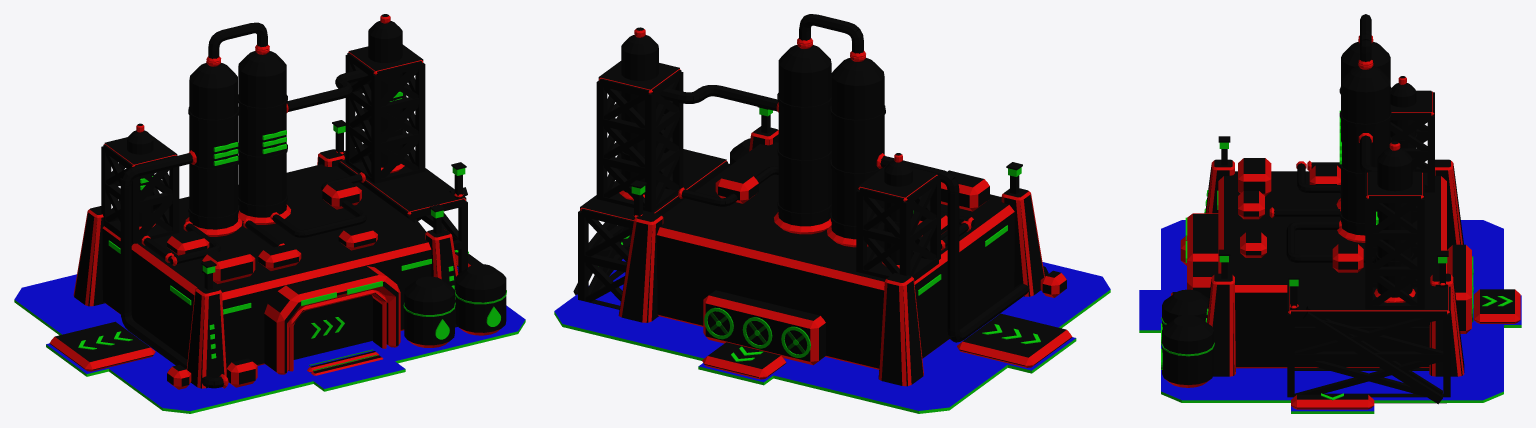
File: SM_Holo_FluidPlant_T3_Mini.fbx
The picture shows the model from 3 angles, left to right: view 1: azimuth 30°, elevation 25°; view 2: azimuth 150°, elevation 25°; view 3: azimuth 270°, elevation 25°; orthographic projection. The views are drawn at different scales.
Parts seen in each view (by area): view 1: SM_Holo_FluidPlant_T3_Mini; view 2: SM_Holo_FluidPlant_T3_Mini; view 3: SM_Holo_FluidPlant_T3_Mini.
Boxes of the visible parts, box(x1,y1,x2,y2) form: SM_Holo_FluidPlant_T3_Mini: box(14, 14, 525, 413); SM_Holo_FluidPlant_T3_Mini: box(554, 14, 1110, 413); SM_Holo_FluidPlant_T3_Mini: box(1139, 14, 1521, 413).
Size of the model in its own units: 46 by 30.31 by 36.8.
